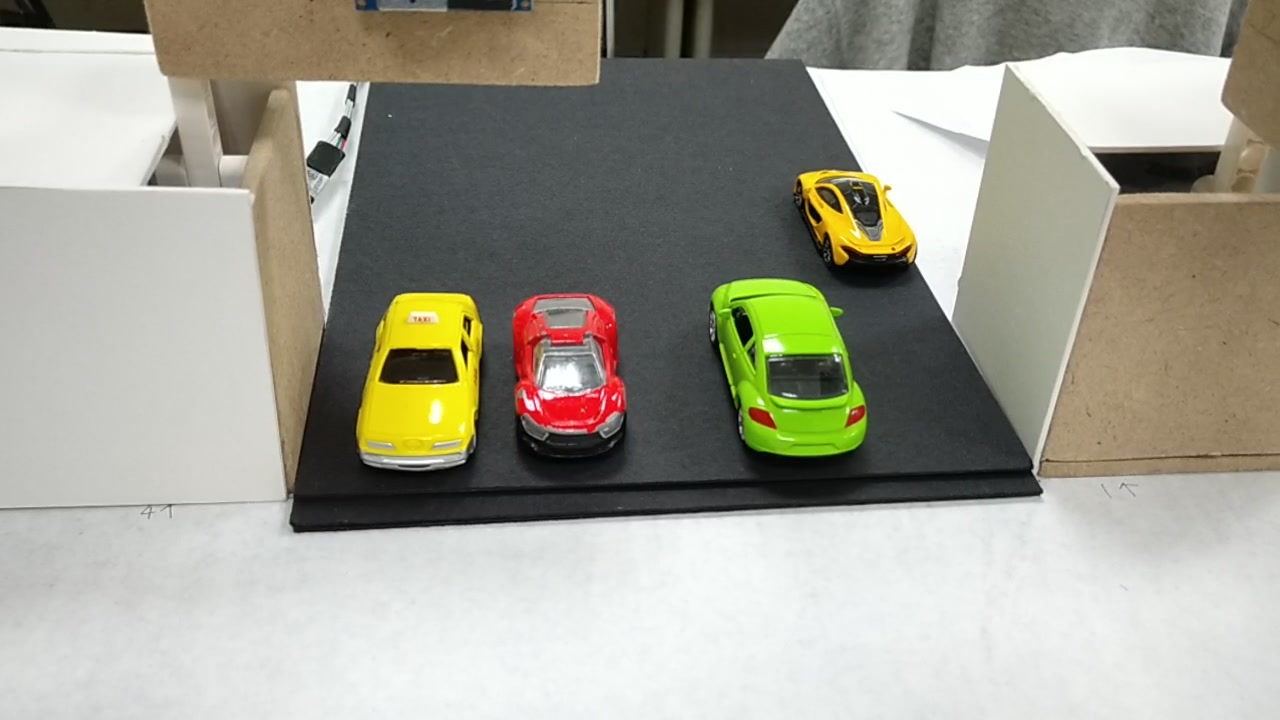car: (706, 280, 864, 463), (355, 297, 474, 470), (514, 290, 621, 451), (796, 164, 914, 275)
